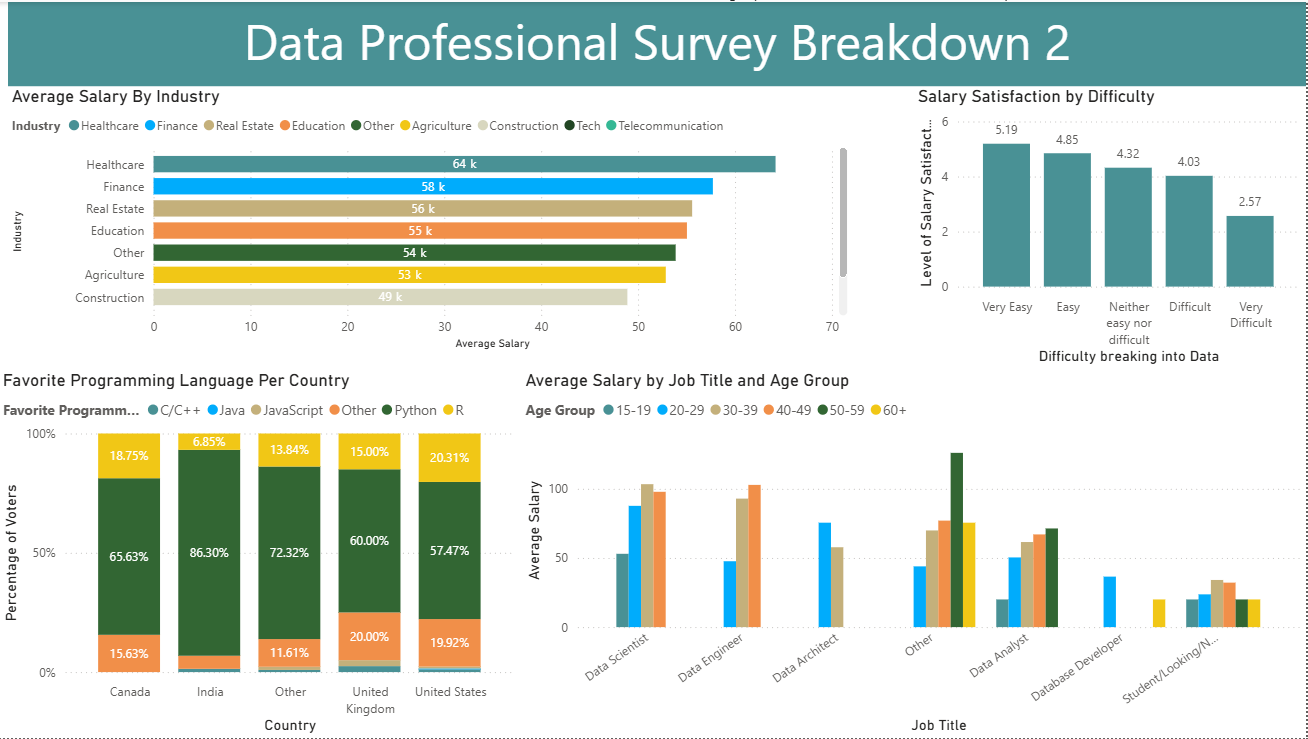

The dashboard page shown, as its layout file describes it:
{"tool":"powerbi","page":{"name":"Page 2","canvas":[1280,720],"ordinal":1},"visuals":[{"type":"barChart","title":"Average Salary By Industry","fields":{"Y":["Avg(Data Professional Survey.Average Salary)"],"Category":["Data Professional Survey.Q4 - What Industry do you work in?.1"],"Series":["Data Professional Survey.Q4 - What Industry do you work in?.1"]},"box":[8.8,82,827.4,263.6],"z":0},{"type":"hundredPercentStackedColumnChart","title":"Favorite Programming Language Per Country","fields":{"Category":["Data Professional Survey.Q11 - Which Country do you live in?.1"],"Series":["Data Professional Survey.Q5 - Favorite Programming Language.1"],"Y":["CountNonNull(Data Professional Survey.Q5 - Favorite Programming Language.1)"]},"box":[0,359.5,510.8,360.7],"z":1000},{"type":"clusteredColumnChart","fields":{"Y":["Avg(Data Professional Survey.Average Salary)"],"Category":["Data Professional Survey.Q1 - Which Title Best Fits your Current Role?.1"],"Series":["Data Professional Survey.Q10 - Current Age (groups)"]},"box":[511.1,359.5,767.9,360.7],"z":2000},{"type":"columnChart","title":"Salary Satisfaction by Difficulty","fields":{"Y":["Avg(Data Professional Survey.Q6 - How Happy are you in your Current Position with the following? (Salary))"],"Category":["Data Professional Survey.Q7 - How difficult was it for you to break into Data?"]},"box":[895.5,82,383.4,277.5],"z":3000},{"type":"textbox","box":[9.3,0,1270.7,82.3],"z":4000}]}

Visuals, with their boxes in screenshot pixels (x1, y1, x2, y2), scaled from the page's 1280x720 canvas onto the 1308x739 screenshot:
"Average Salary By Industry" barChart: bbox=[9, 84, 854, 355]
"Favorite Programming Language Per Country" hundredPercentStackedColumnChart: bbox=[0, 369, 522, 738]
clusteredColumnChart - Avg(Data Professional Survey.Average Salary) x Data Professional Survey.Q1 - Which Title Best Fits your Current Role?.1: bbox=[522, 369, 1307, 738]
"Salary Satisfaction by Difficulty" columnChart: bbox=[915, 84, 1307, 369]
textbox: bbox=[10, 0, 1307, 84]
